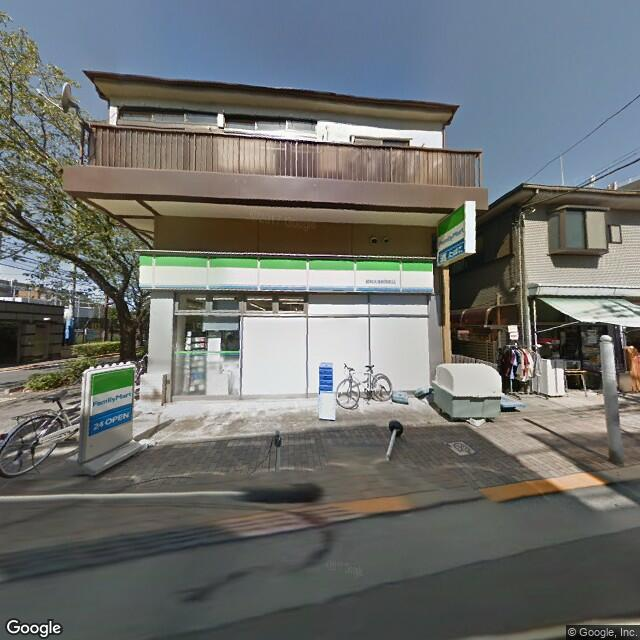family_mart: (137, 260, 435, 293), (87, 362, 139, 431), (436, 198, 472, 263)
